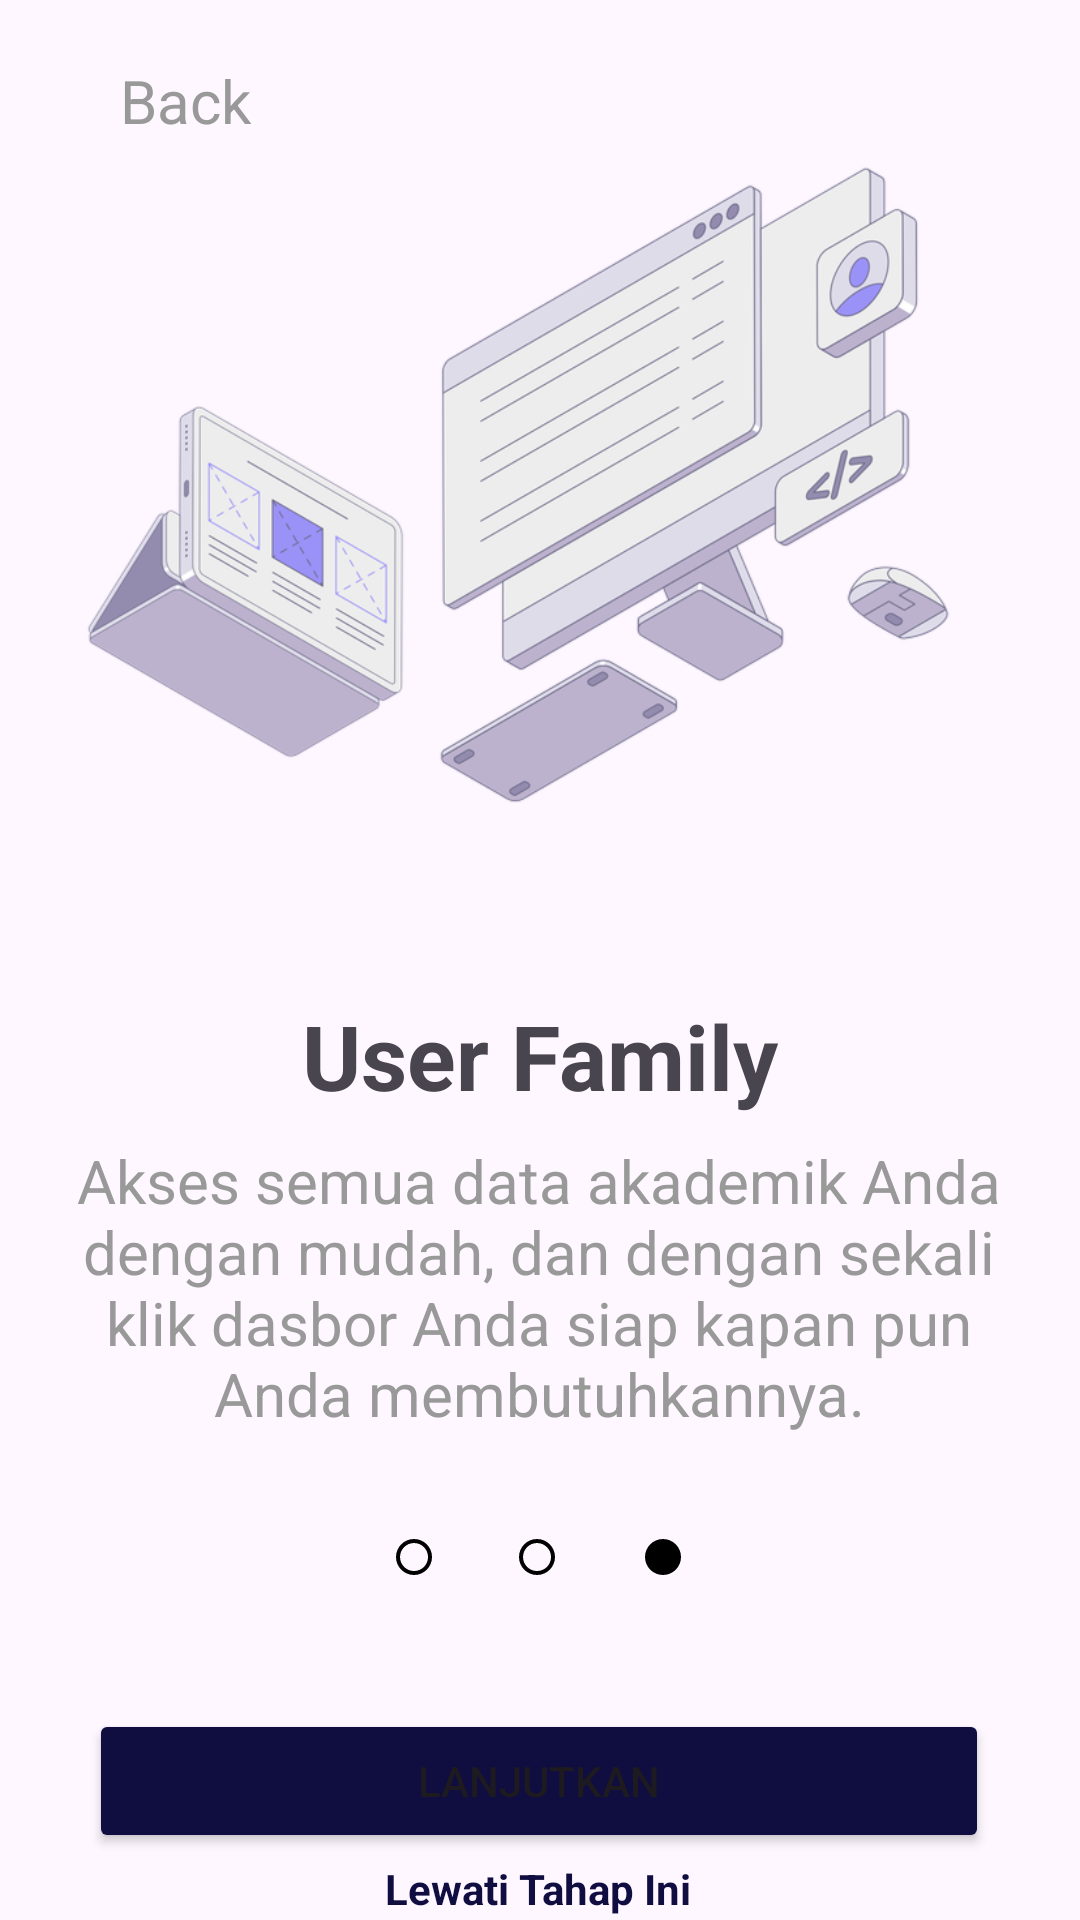

Point at icon controls on the screen. Image size 1080*1920, points as (x,y).
circlebolong: (414,1557), (537,1557)
